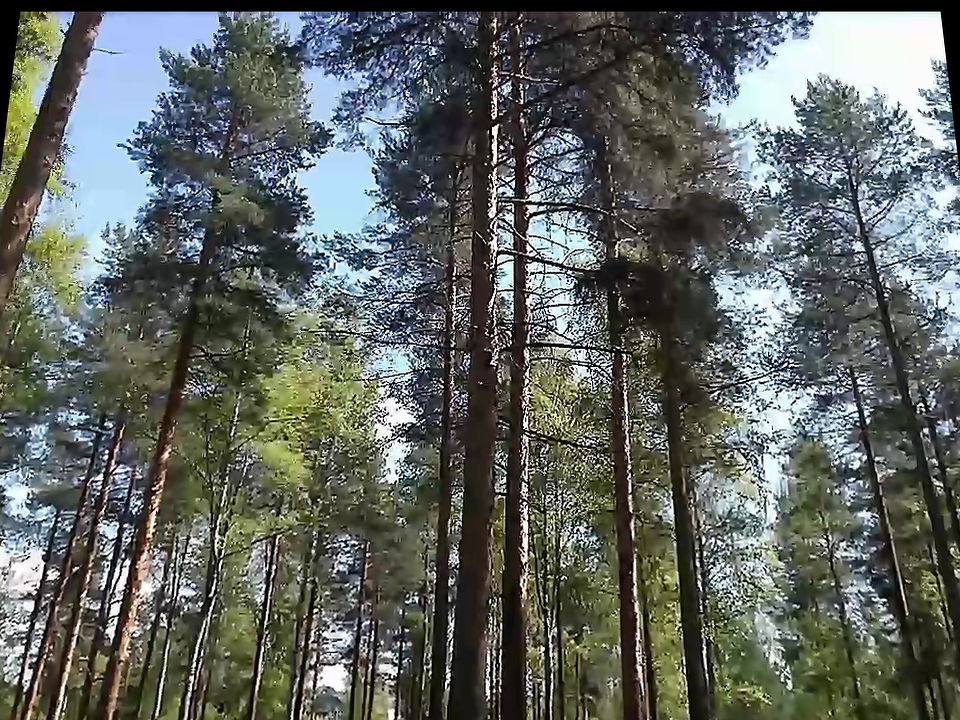branch: (498, 241, 624, 287), (504, 190, 642, 231), (496, 410, 616, 457), (498, 335, 650, 365)
trunk: (458, 37, 507, 679)
